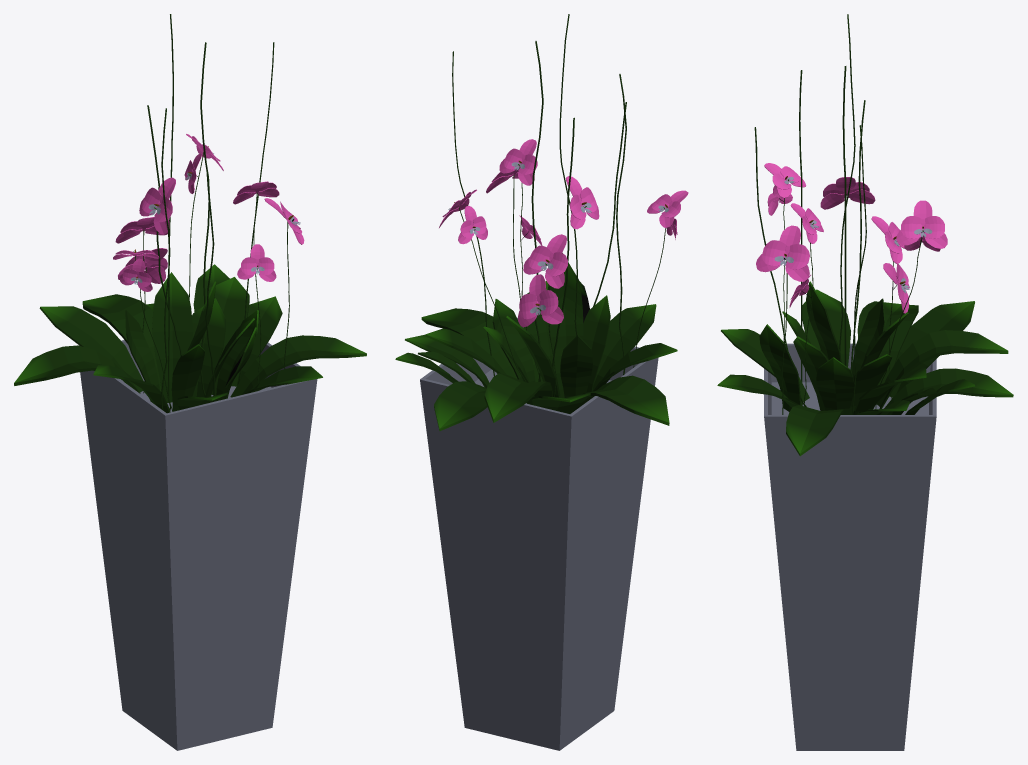
The model's file is plantbig.fbx.
3 renders of one model, left to right at view 1: azimuth 30°, elevation 25°; view 2: azimuth 150°, elevation 25°; view 3: azimuth 270°, elevation 25°, orthographic.
Parts seen in each view (by area): view 1: plantbig; view 2: plantbig; view 3: plantbig.
Part boxes in pixels (x1=…): plantbig: x1=14, y1=14, x2=366, y2=750; plantbig: x1=395, y1=14, x2=688, y2=750; plantbig: x1=717, y1=14, x2=1013, y2=750.
Size of the model in its own units: 19.3 by 43.72 by 16.75.
